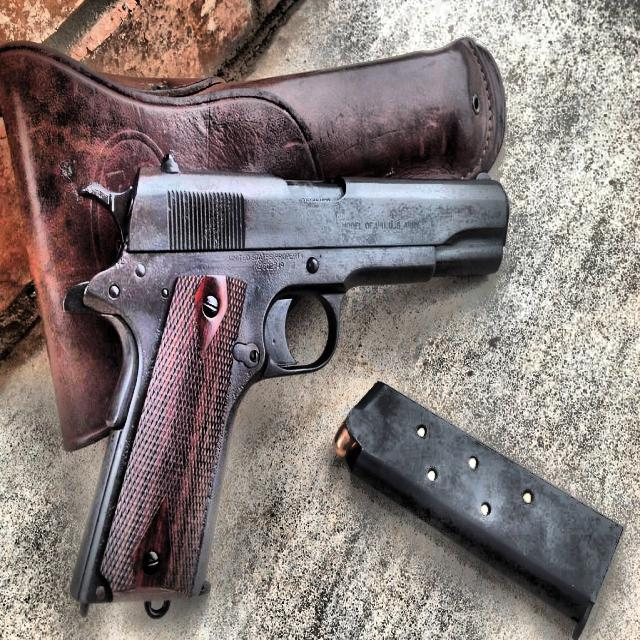Colt m1911: (68, 150, 514, 614)
